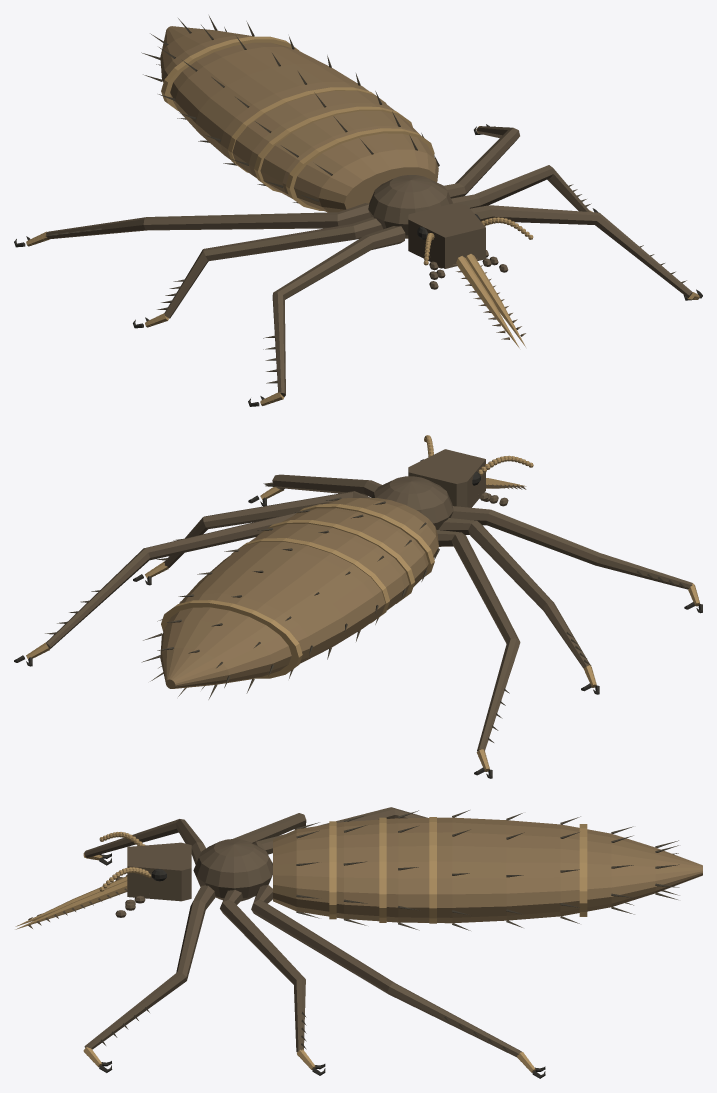
The picture shows the model from 3 angles, top to bottom: view 1: azimuth 30°, elevation 25°; view 2: azimuth 150°, elevation 25°; view 3: azimuth 270°, elevation 25°; orthographic projection. The views are drawn at different scales.
Parts seen in each view (by area): view 1: broad_not_laterally_compressed_tapering_abdomen, six_coxae_and_long_legs, eight_suggested_abdominal_tergal_bands, small_trapezoid_head, compact_wingless_thorax, paired_elongate_serrated_laciniae, posterior_directed_abdominal_setae, five_subdivided_tarsi_per_leg; view 2: broad_not_laterally_compressed_tapering_abdomen, six_coxae_and_long_legs, eight_suggested_abdominal_tergal_bands, small_trapezoid_head, compact_wingless_thorax, posterior_directed_abdominal_setae, five_subdivided_tarsi_per_leg, paired_scythe_like_claws_on_six_feet; view 3: broad_not_laterally_compressed_tapering_abdomen, six_coxae_and_long_legs, compact_wingless_thorax, eight_suggested_abdominal_tergal_bands, small_trapezoid_head, posterior_directed_abdominal_setae, paired_elongate_serrated_laciniae, sixteen_compact_flagellar_beads, five_subdivided_tarsi_per_leg.
Part boxes in pixels (x1,y1,x2,y2): broad_not_laterally_compressed_tapering_abdomen: (160,26,438,212); six_coxae_and_long_legs: (45,126,692,396); eight_suggested_abdominal_tergal_bands: (161,36,434,210); small_trapezoid_head: (408,202,485,268); compact_wingless_thorax: (368,175,452,238); paired_elongate_serrated_laciniae: (456,254,525,348); posterior_directed_abdominal_setae: (141,16,439,203); five_subdivided_tarsi_per_leg: (26,126,699,405); broad_not_laterally_compressed_tapering_abdomen: (160,498,438,688); six_coxae_and_long_legs: (46,474,692,751); eight_suggested_abdominal_tergal_bands: (161,504,434,678); small_trapezoid_head: (408,449,485,507); compact_wingless_thorax: (372,476,453,529); posterior_directed_abdominal_setae: (141,497,439,699); five_subdivided_tarsi_per_leg: (26,487,699,771); paired_scythe_like_claws_on_six_feet: (14,495,702,778); broad_not_laterally_compressed_tapering_abdomen: (273,817,702,923); six_coxae_and_long_legs: (84,807,521,1057); compact_wingless_thorax: (193,839,272,901); eight_suggested_abdominal_tergal_bands: (329,817,587,923); small_trapezoid_head: (127,842,191,901); posterior_directed_abdominal_setae: (296,810,679,930); paired_elongate_serrated_laciniae: (15,876,127,929); sixteen_compact_flagellar_beads: (99,832,150,891); five_subdivided_tarsi_per_leg: (83,852,535,1072).
Size of the model in its own units: 0.0159 by 0.00457 by 0.0203.
